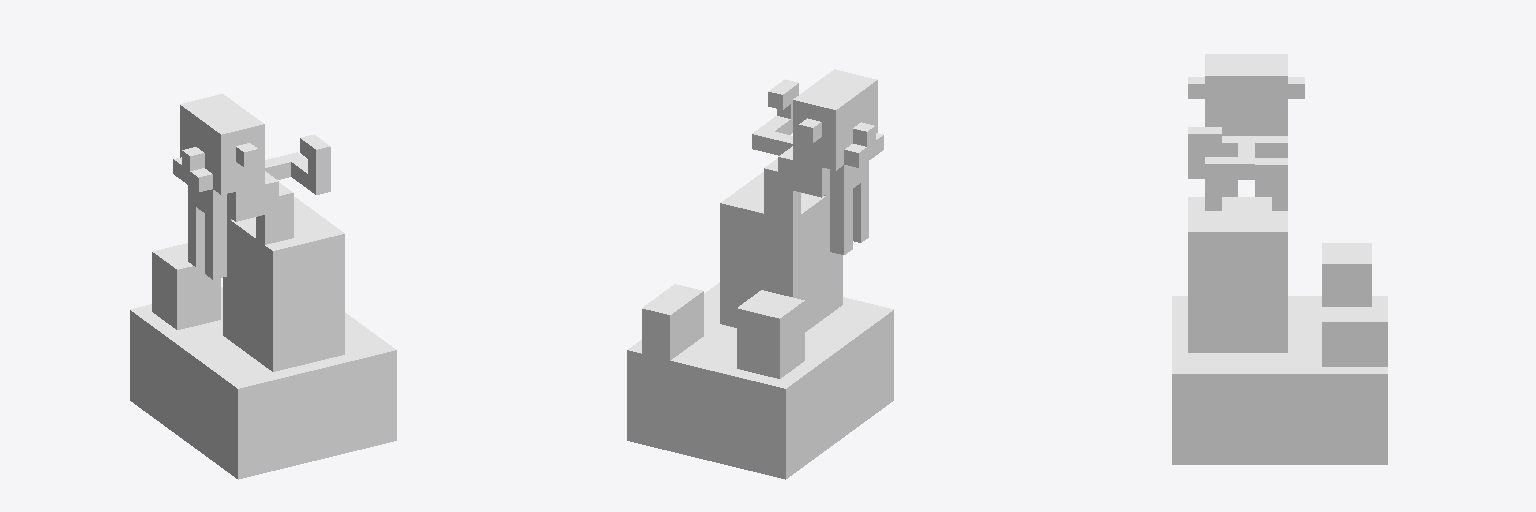
File: zoo-0-mono.obj
3 renders of one model, left to right at view 1: azimuth 30°, elevation 25°; view 2: azimuth 150°, elevation 25°; view 3: azimuth 270°, elevation 25°, orthographic.
Parts seen in each view (by area): view 1: mono; view 2: mono; view 3: mono.
Part boxes in pixels (bbox=[...]): mono: bbox=[130, 94, 396, 479]; mono: bbox=[627, 69, 893, 479]; mono: bbox=[1172, 54, 1387, 464].
Size of the model in its own units: 1.2 by 2.2 by 1.3.